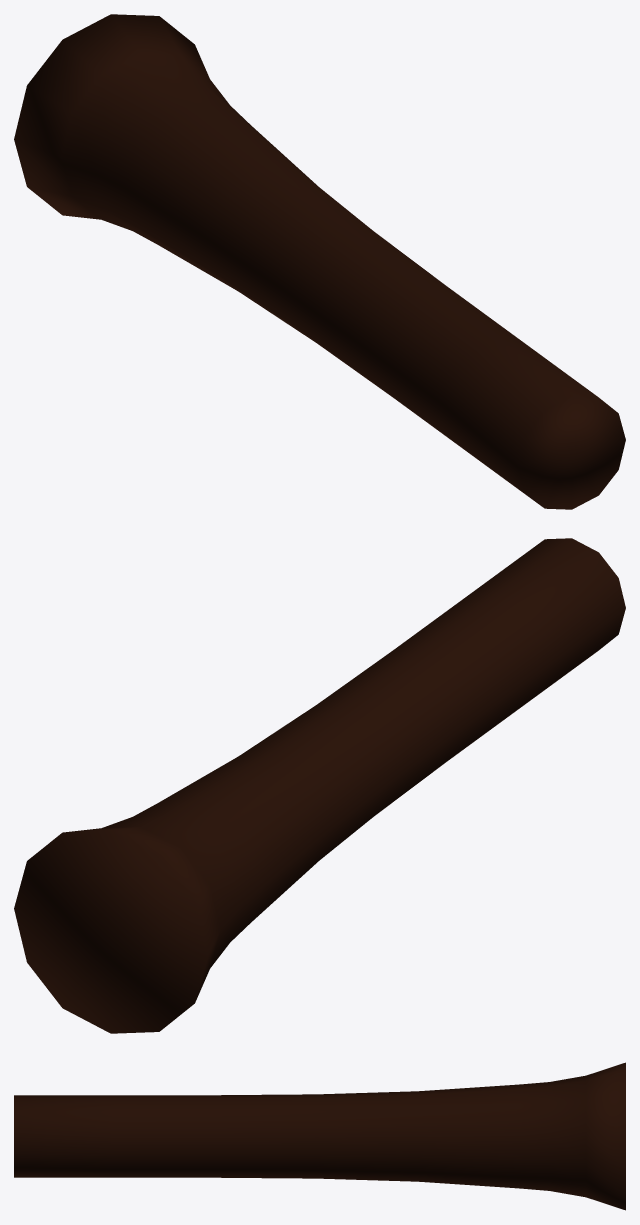
The model's file is LadderHolder.obj.
3 renders of one model, top to bottom at view 1: azimuth 30°, elevation 25°; view 2: azimuth 150°, elevation 25°; view 3: azimuth 270°, elevation 25°, orthographic. The views are drawn at different scales.
Parts seen in each view (by area): view 1: LadderHoldingStick1 HouseBase1; view 2: LadderHoldingStick1 HouseBase1; view 3: LadderHoldingStick1 HouseBase1.
Boxes of the visible parts, x1,y1,x2,y2 form: LadderHoldingStick1 HouseBase1: (14,14,625,509); LadderHoldingStick1 HouseBase1: (14,538,625,1033); LadderHoldingStick1 HouseBase1: (14,1062,625,1210).
Bounding box in the file's own units: 1.22 × 1.22 × 5.04.
